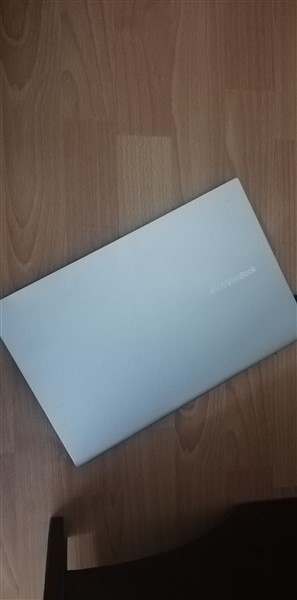laptop: (4, 174, 296, 468)
